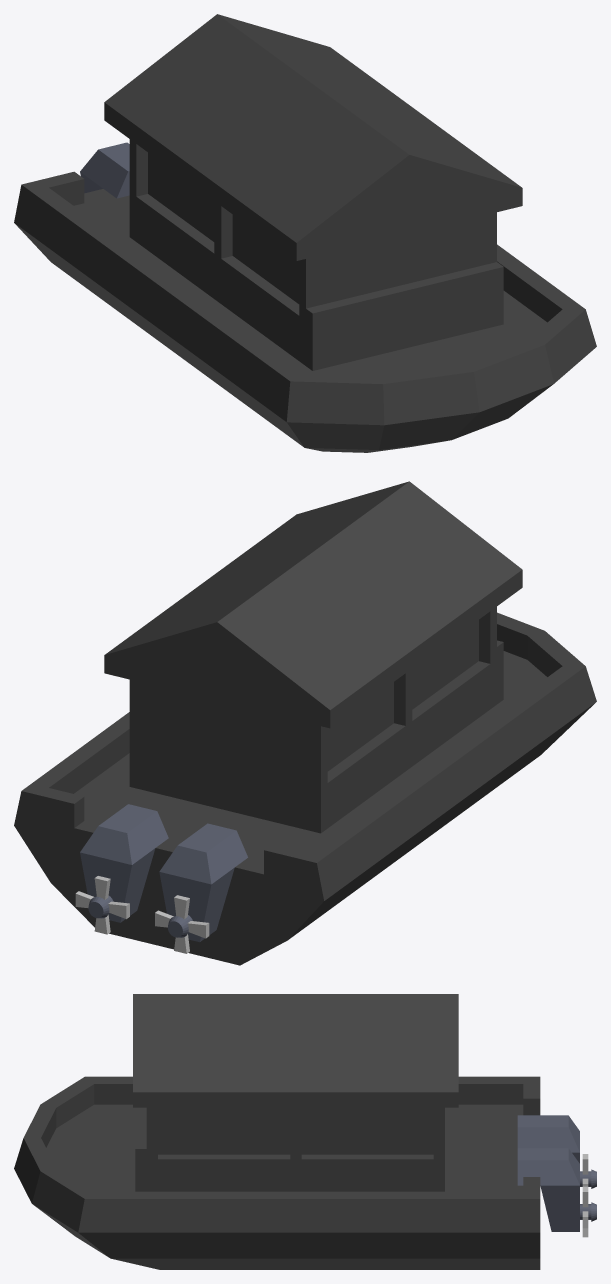
Rendered from watercraftpack_001.glb.
3 views of the same model, one above another, from view 1: azimuth 30°, elevation 25°; view 2: azimuth 150°, elevation 25°; view 3: azimuth 270°, elevation 25° (orthographic). The views are drawn at different scales.
Parts seen in each view (by area): view 1: Mesh5 Group1 Model, Mesh2 Group3 Group1 Model; view 2: Mesh5 Group1 Model, Mesh2 Group3 Group1 Model, Mesh1 Group2 Group1 Model, Mesh3 Group4 Group1 Model, Mesh4 Group5 Group1 Model; view 3: Mesh5 Group1 Model, Mesh1 Group2 Group1 Model, Mesh2 Group3 Group1 Model.
Boxes of the visible parts, left/top/right/bottom form: Mesh5 Group1 Model: left=14, top=14, right=596, bottom=452; Mesh2 Group3 Group1 Model: left=80, top=142, right=129, bottom=198; Mesh5 Group1 Model: left=14, top=481, right=596, bottom=965; Mesh2 Group3 Group1 Model: left=159, top=823, right=247, bottom=942; Mesh1 Group2 Group1 Model: left=80, top=804, right=168, bottom=922; Mesh3 Group4 Group1 Model: left=155, top=895, right=209, bottom=953; Mesh4 Group5 Group1 Model: left=75, top=876, right=129, bottom=934; Mesh5 Group1 Model: left=14, top=994, right=540, bottom=1269; Mesh1 Group2 Group1 Model: left=517, top=1148, right=596, bottom=1231; Mesh2 Group3 Group1 Model: left=517, top=1115, right=596, bottom=1188.
Bounding box in the file's own units: 2.68 × 2.4 × 5.14.
